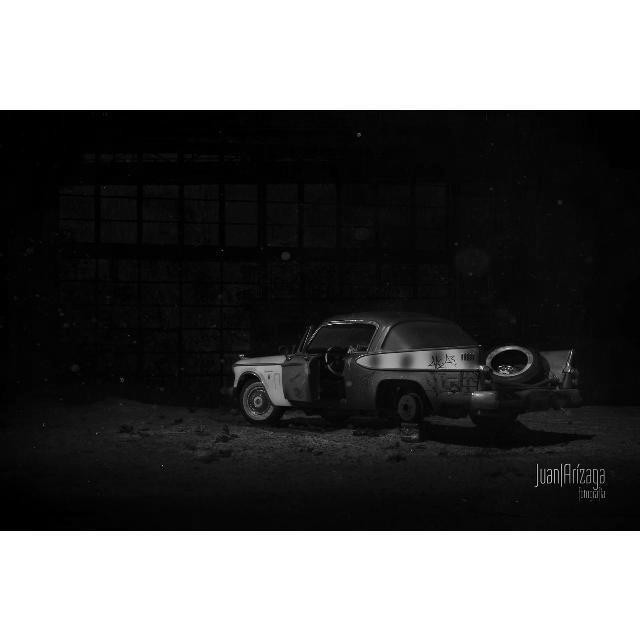doorouter-dent: (282, 346, 346, 415)
